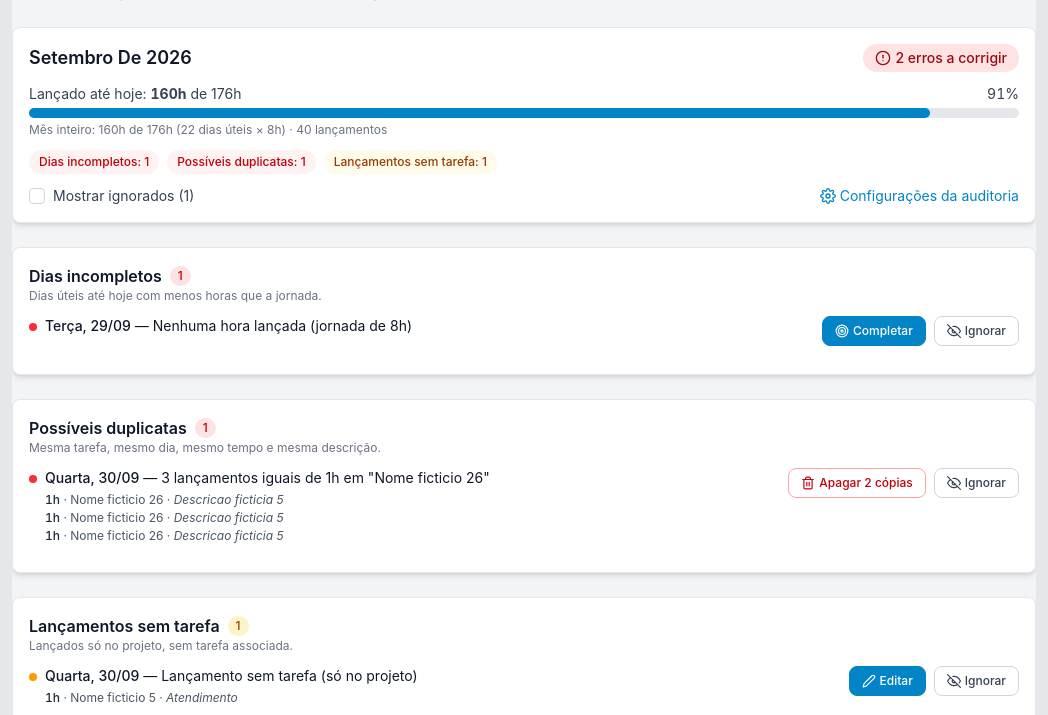
Test: Fechamento › audita o mês recebido e agrupa os problemas por tipo
Expected: the heading "Dias incompletos 1" is shown, x1=29 y1=266 x2=191 y2=286
Expected: the heading "Possíveis duplicatas 1" is shown, x1=29 y1=418 x2=216 y2=438
Click the checkbox labelled "Mostrar ignorados (1)": [37, 196] box x1=29 y1=188 x2=45 y2=204
(page scrolled)
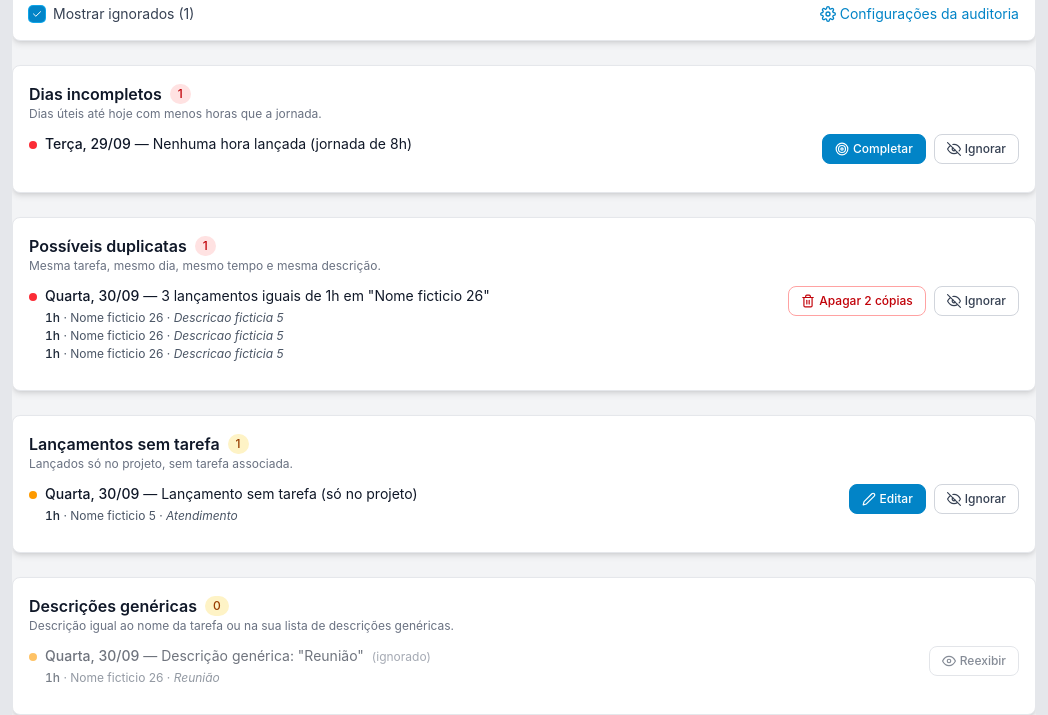
Expected: the heading "Descrições genéricas 0" is shown, x1=29 y1=596 x2=229 y2=616
Expected: the button "Reexibir" is shown, x1=929 y1=646 x2=1019 y2=676
